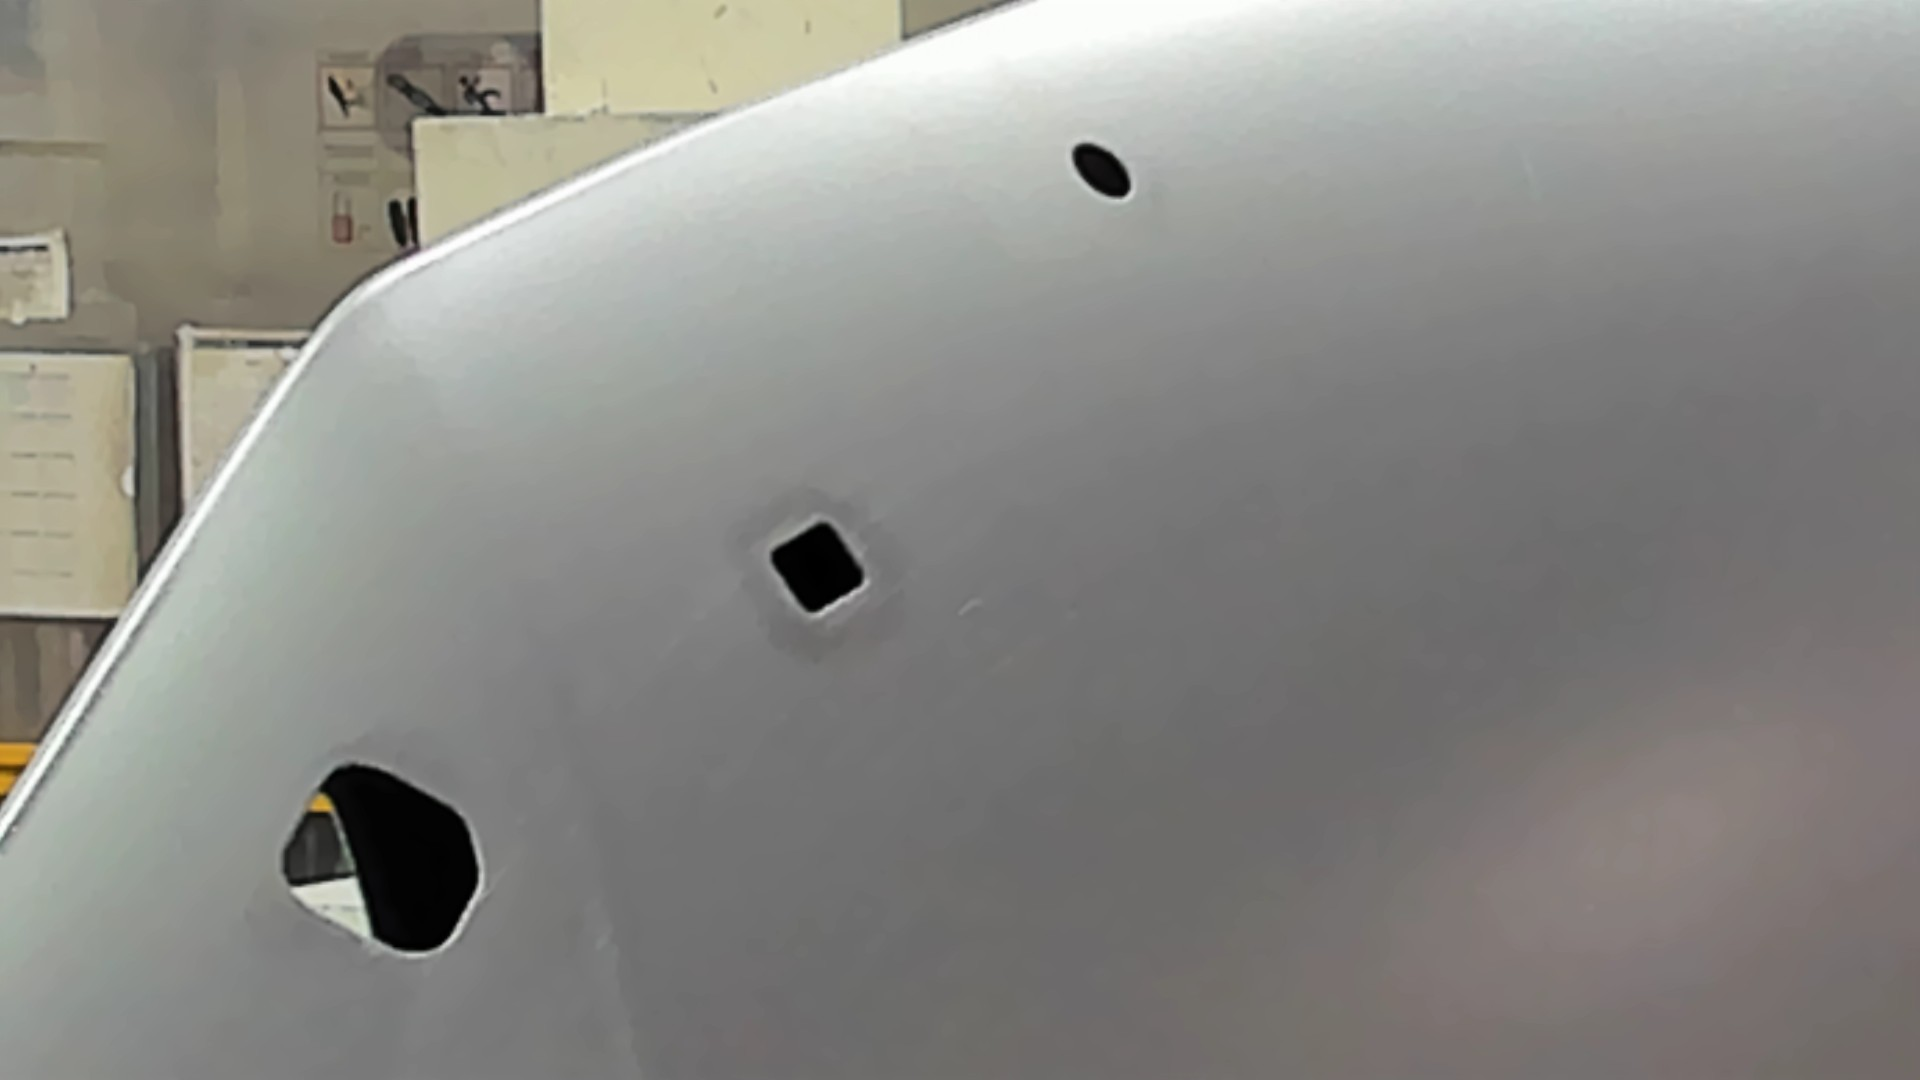chico: (1065, 137, 1137, 204)
grande: (278, 754, 488, 964)
mediano: (764, 512, 866, 626)
